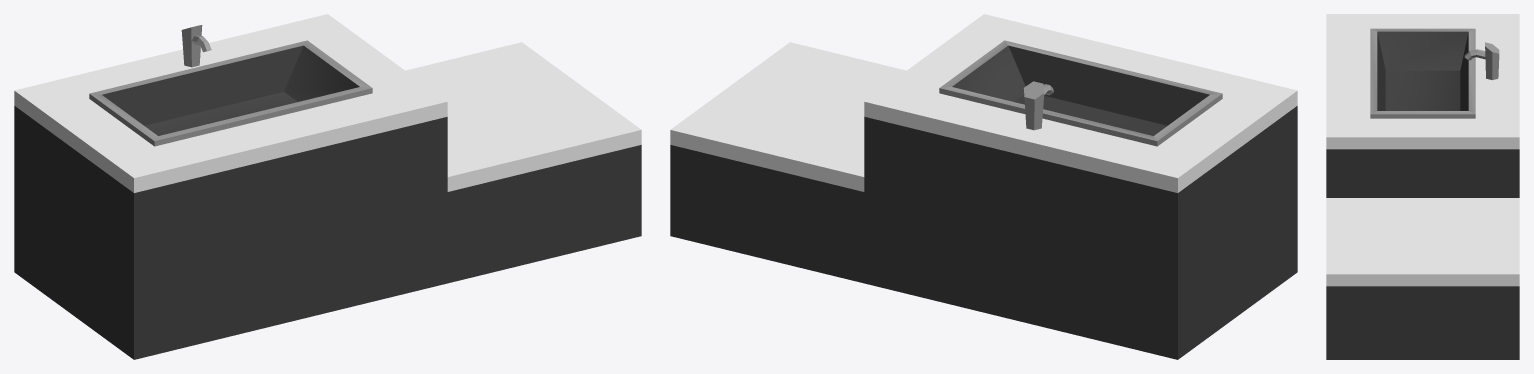
File: bathroom_item_001.glb
3 views of the same model, side by side, from view 1: azimuth 30°, elevation 25°; view 2: azimuth 150°, elevation 25°; view 3: azimuth 270°, elevation 25° (orthographic). The views are drawn at different scales.
Visible parts, largest first — view 1: bathroom_item_001; view 2: bathroom_item_001; view 3: bathroom_item_001.
Boxes of the visible parts, x1,y1,x2,y2 form: bathroom_item_001: [14, 14, 641, 359]; bathroom_item_001: [670, 14, 1297, 359]; bathroom_item_001: [1326, 14, 1519, 359].
Size of the model in its own units: 1.47 by 0.6177 by 0.6026.
1 material, 1 textured.
